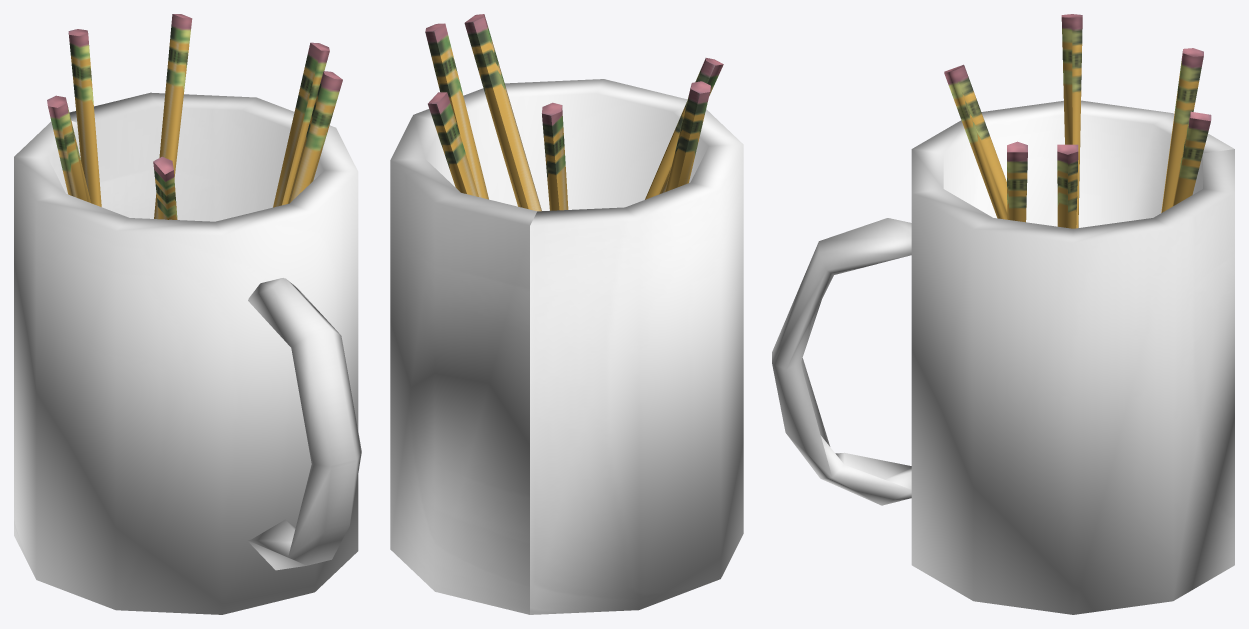
File: Pencil Jar_lod3.fbx
3 renders of one model, left to right at view 1: azimuth 30°, elevation 25°; view 2: azimuth 150°, elevation 25°; view 3: azimuth 270°, elevation 25°, orthographic. The views are drawn at different scales.
Visible parts, largest first — view 1: mug, mug_handle, pencil4, pencil3, pencil2, pencil1, pencil5, pencil6; view 2: mug, pencil1, pencil2, pencil5, pencil3, pencil4, pencil6; view 3: mug, mug_handle, pencil6, pencil5, pencil4, pencil3, pencil2, pencil1.
Boxes of the visible parts, left/top/right/bottom form: mug: left=14, top=92, right=358, bottom=614; mug_handle: left=248, top=278, right=361, bottom=570; pencil4: left=68, top=29, right=101, bottom=206; pencil3: left=154, top=14, right=192, bottom=219; pencil2: left=273, top=42, right=329, bottom=207; pencil1: left=288, top=71, right=342, bottom=203; pencil5: left=47, top=95, right=90, bottom=202; pencil6: left=153, top=156, right=177, bottom=219; mug: left=390, top=79, right=743, bottom=614; pencil1: left=464, top=14, right=541, bottom=211; pencil2: left=425, top=23, right=488, bottom=199; pencil5: left=665, top=81, right=710, bottom=191; pencil3: left=428, top=92, right=478, bottom=196; pencil4: left=542, top=102, right=568, bottom=210; pencil6: left=645, top=58, right=723, bottom=199; mug: left=911, top=100, right=1234, bottom=614; mug_handle: left=772, top=218, right=911, bottom=505; pencil6: left=944, top=64, right=1007, bottom=219; pencil5: left=1061, top=14, right=1082, bottom=228; pencil4: left=1161, top=48, right=1203, bottom=212; pencil3: left=1172, top=111, right=1211, bottom=206; pencil2: left=1057, top=144, right=1078, bottom=228; pencil1: left=1007, top=141, right=1027, bottom=222.
Size of the model in its own units: 1.4 by 2.14 by 1.91.
